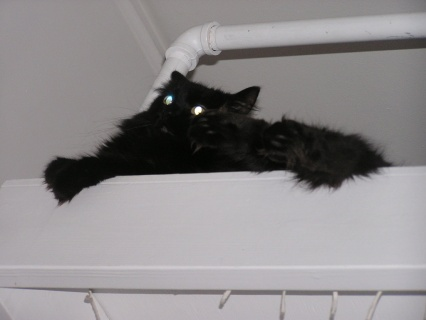Cat: (39, 66, 396, 211)
